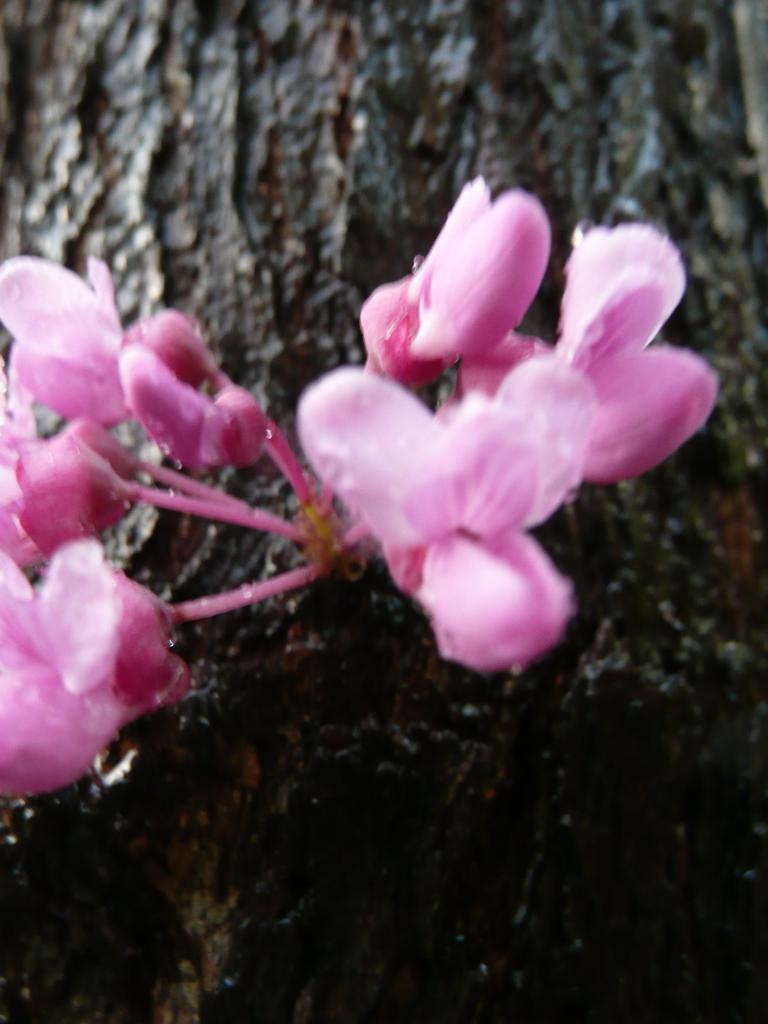Tree: (0, 0, 767, 1020)
